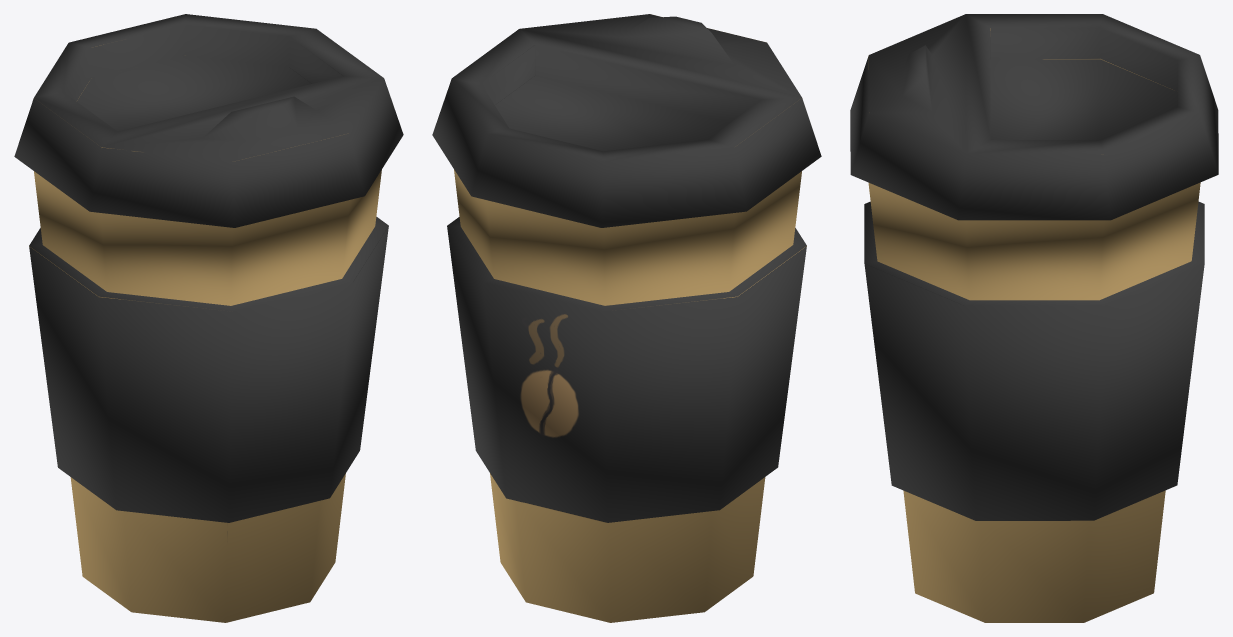
Rendered from Coffee.fbx.
3 renders of one model, left to right at view 1: azimuth 30°, elevation 25°; view 2: azimuth 150°, elevation 25°; view 3: azimuth 270°, elevation 25°, orthographic.
Visible parts, largest first — view 1: Cube; view 2: Cube; view 3: Cube.
Part boxes in pixels (x1,y1,x2,y2): Cube: (14, 14, 403, 622); Cube: (432, 14, 821, 622); Cube: (850, 14, 1218, 622).
Size of the model in its own units: 85.41 by 131 by 85.41.
